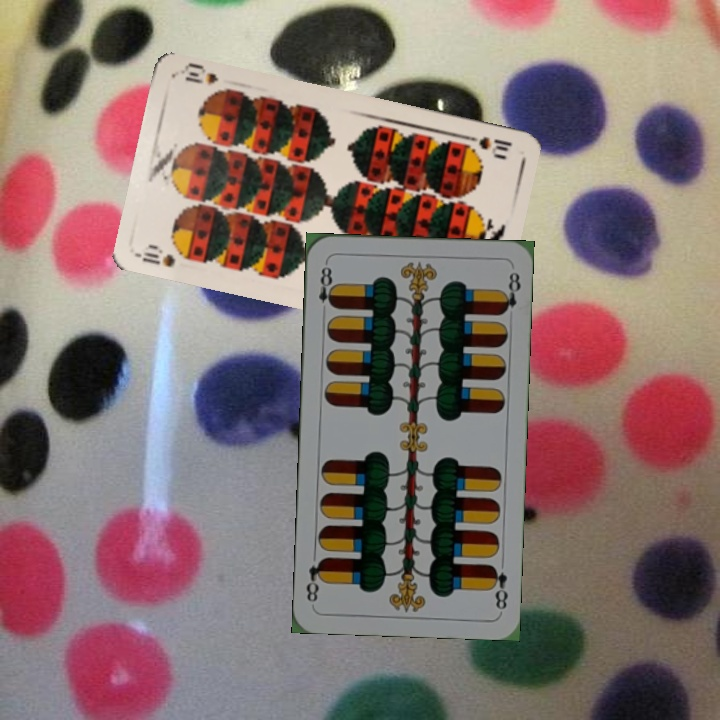E8: (486, 560, 511, 612), (314, 258, 338, 311)
S10: (458, 130, 515, 159), (135, 242, 178, 269)
